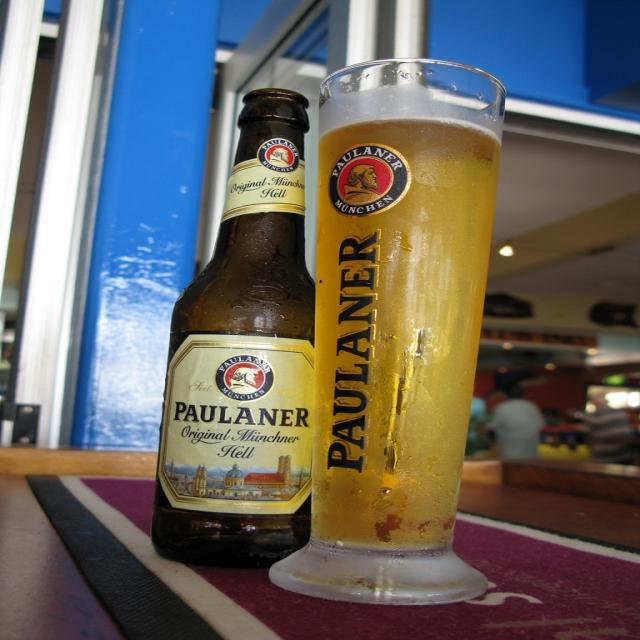paulaner: (328, 146, 412, 218), (215, 356, 274, 403), (258, 139, 302, 174)
